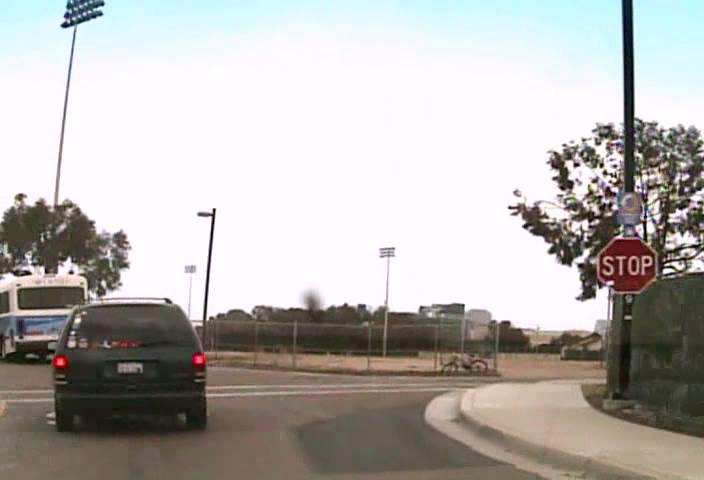stop: (596, 236, 657, 294)
